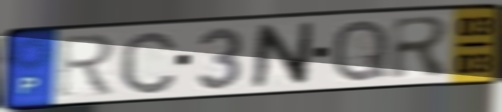3: (195, 24, 246, 93)
C: (116, 28, 180, 96)
N: (248, 20, 317, 90)
Q: (329, 17, 391, 85)
R: (388, 14, 453, 82), (55, 32, 118, 98)
